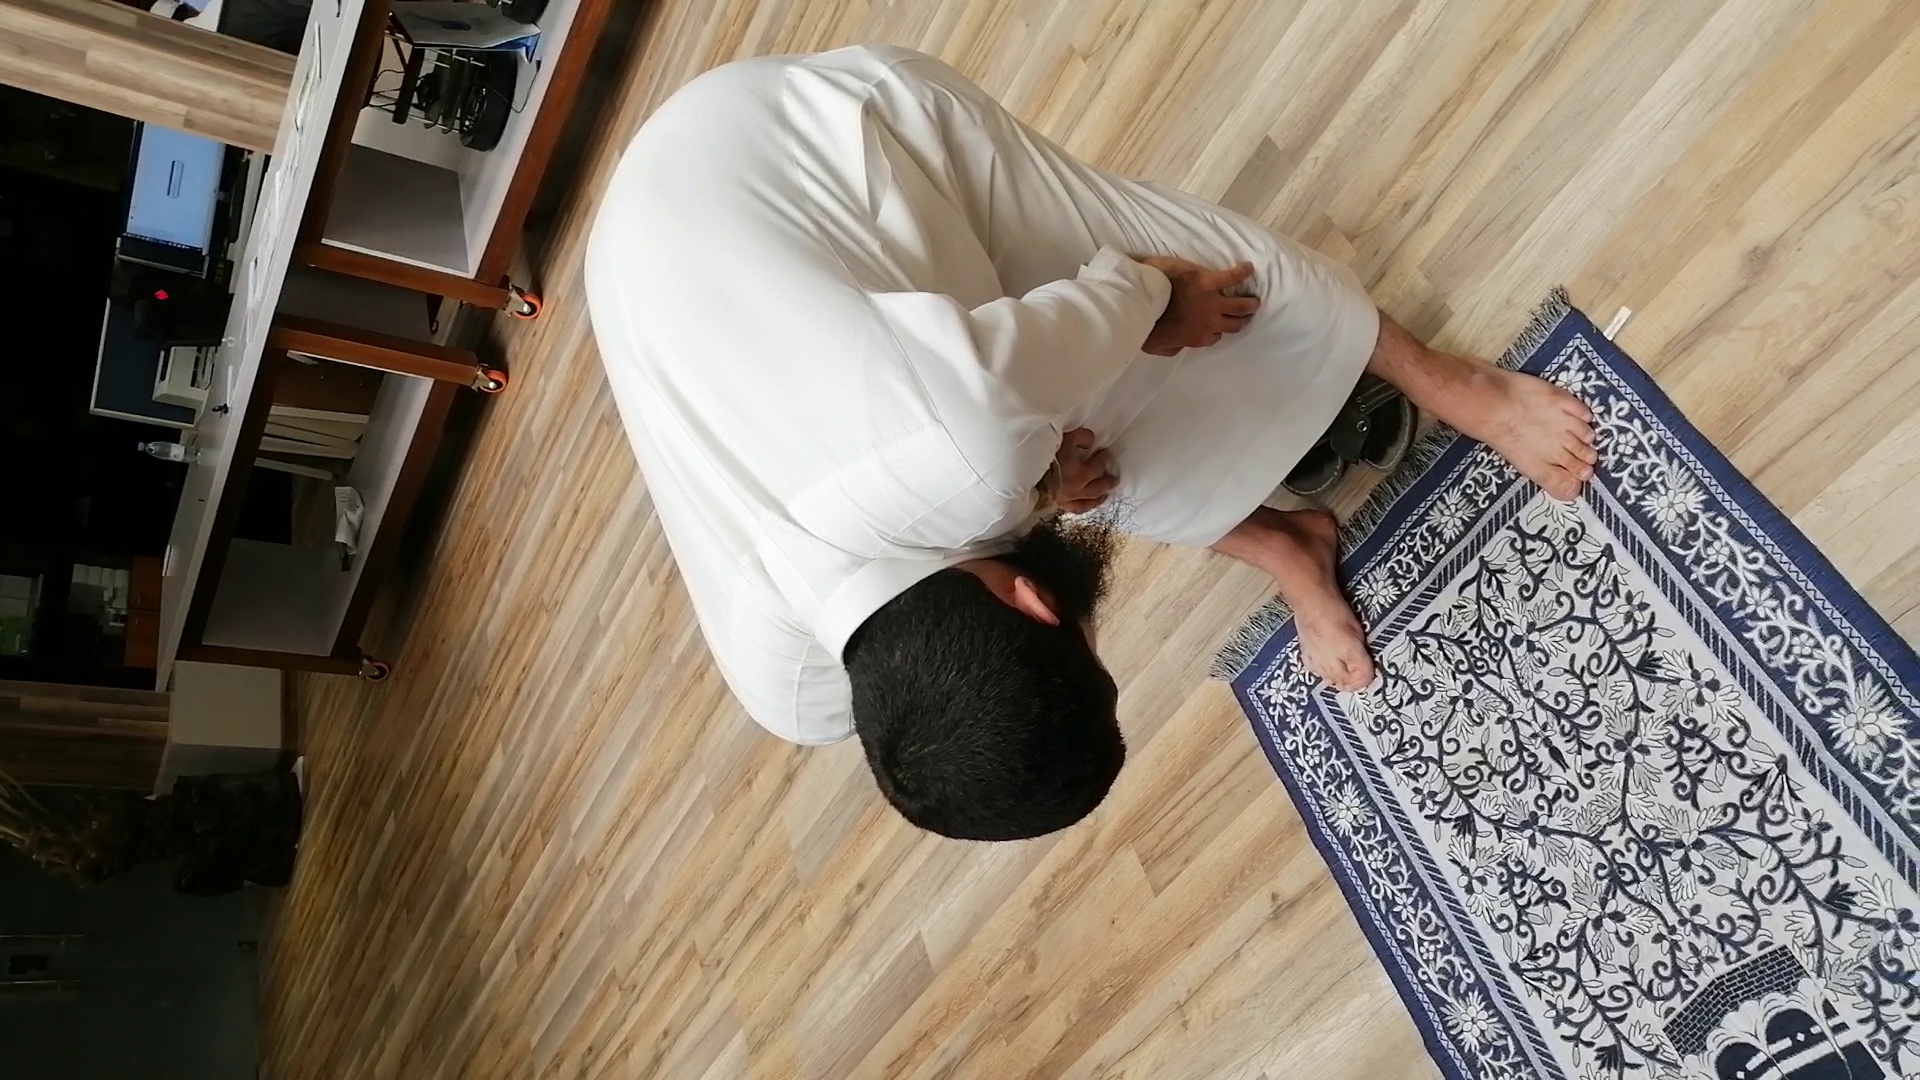ruku: (78, 30, 1795, 843)
